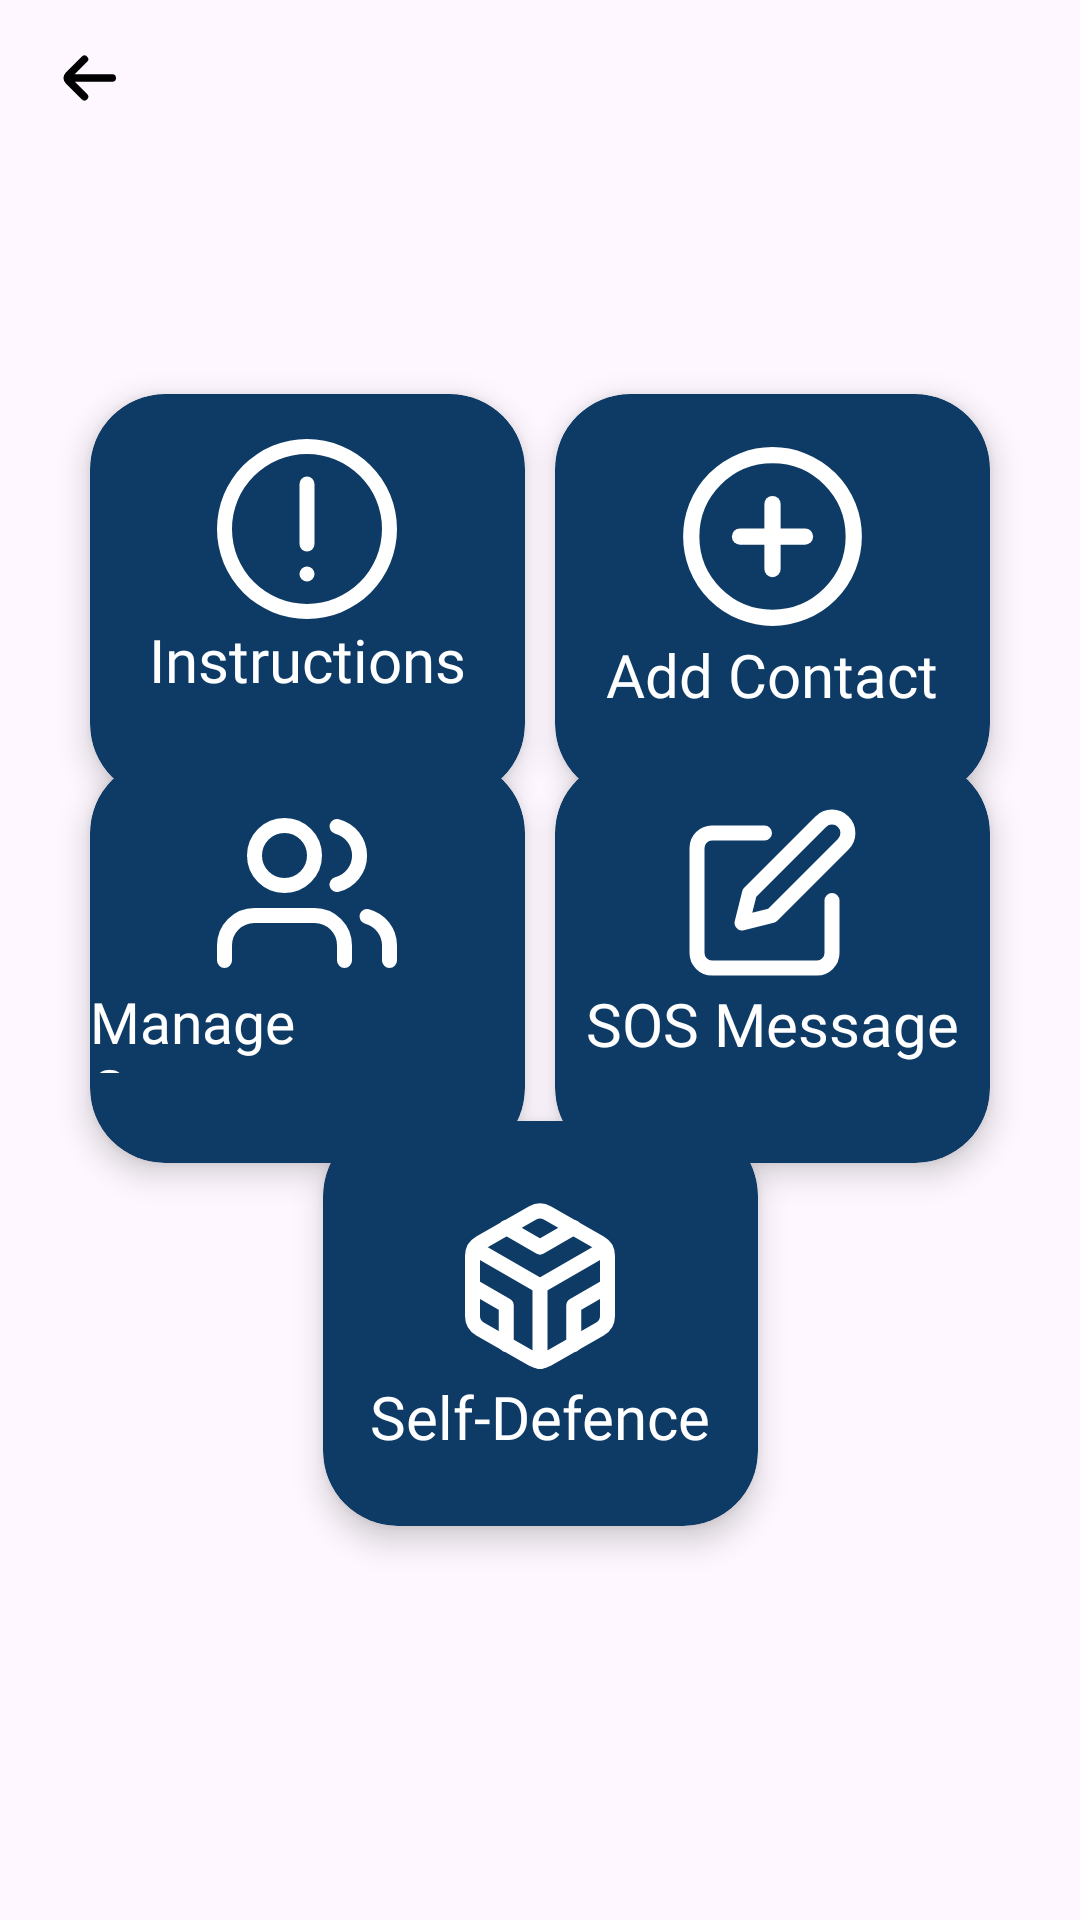

Icon click points for this 1080 × 1920 phone screenshot, format point (x, y):
arrow left: point (89, 78)
edit: point (772, 892)
exclamation: point (307, 529)
plus circle: point (772, 536)
users: point (307, 893)
